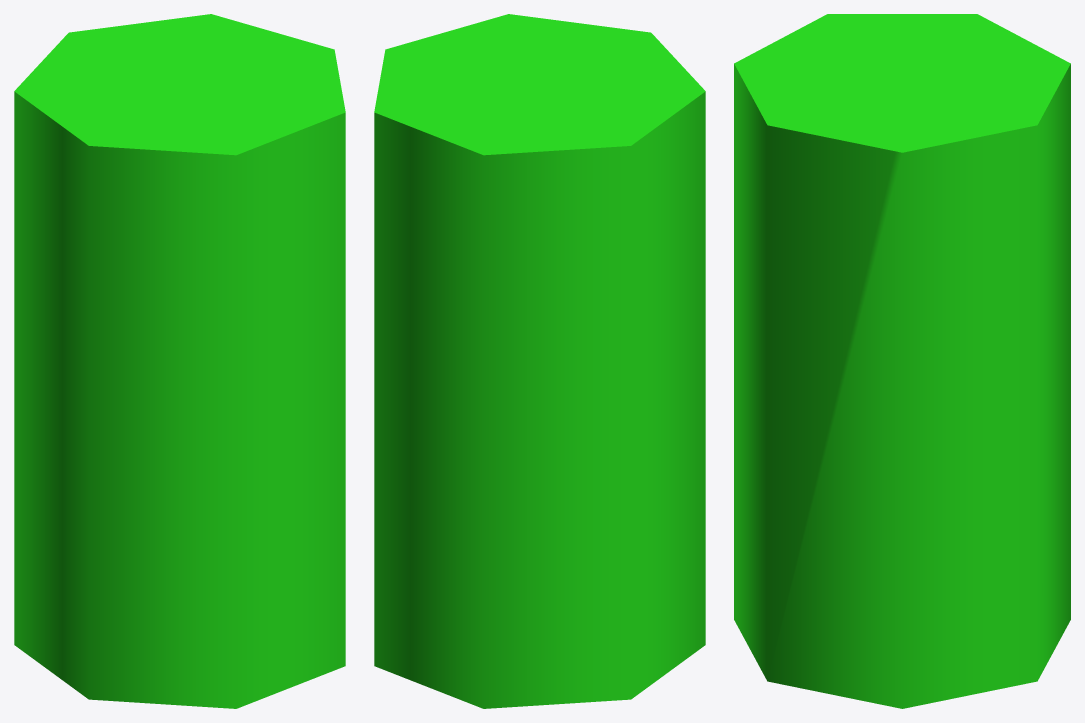
The model's file is PlantGrothPhase1.FBX.
3 views of the same model, side by side, from view 1: azimuth 30°, elevation 25°; view 2: azimuth 150°, elevation 25°; view 3: azimuth 270°, elevation 25° (orthographic).
Parts seen in each view (by area): view 1: phase1; view 2: phase1; view 3: phase1.
Boxes of the visible parts, bbox=[...] form: phase1: bbox=[14, 14, 345, 708]; phase1: bbox=[374, 14, 705, 708]; phase1: bbox=[734, 14, 1070, 708].
Bounding box in the file's own units: 8.77 × 16.39 × 9.
